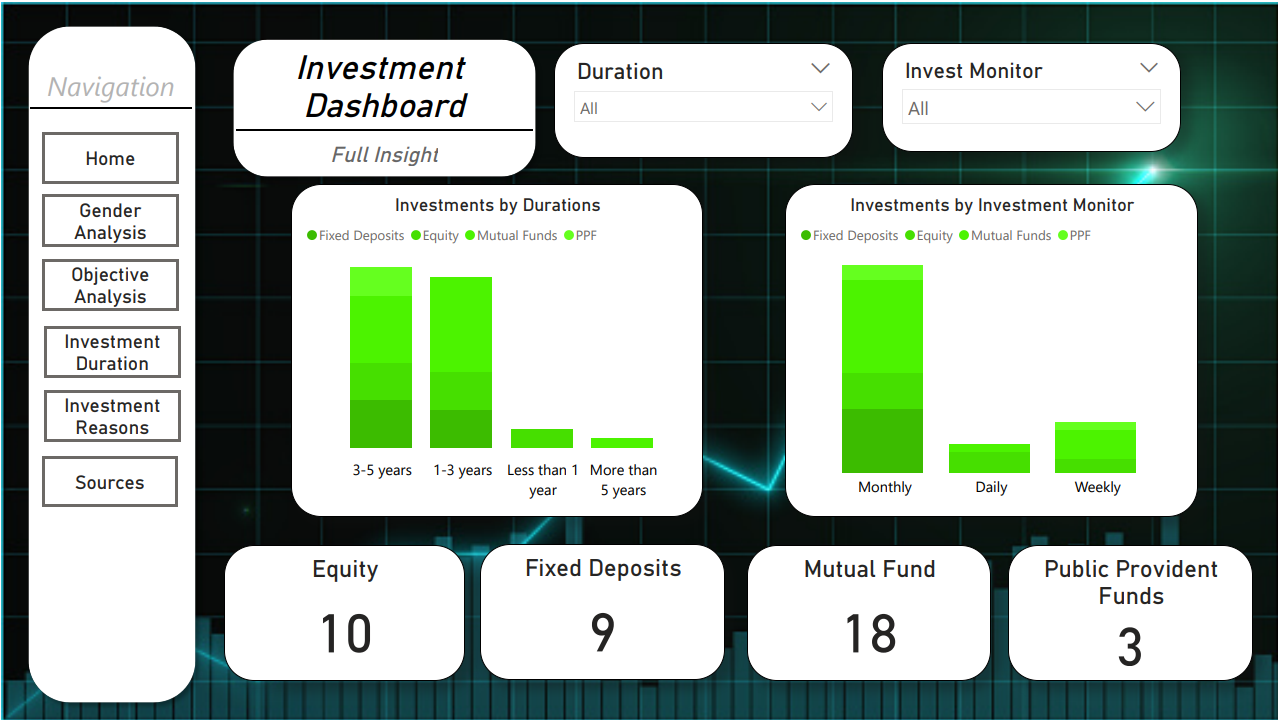

Layout of this report page (visuals, bound fields, positions):
{"tool":"powerbi","page":{"name":"Investment duration","canvas":[1280,720],"ordinal":3},"visuals":[{"type":"shape","box":[19.2,16.5,183.9,693],"z":0},{"type":"textbox","box":[28.8,60.4,161.9,46.7],"z":1000},{"type":"shape","box":[28.8,83.7,161.9,43.9],"z":2000},{"type":"shape","box":[223.7,28.8,319.7,153.7],"z":3000},{"type":"textbox","box":[246.6,41.3,272.2,85.5],"z":4000},{"type":"shape","box":[234.6,105.7,297.8,43.9],"z":5000},{"type":"columnChart","title":"Investments by Durations","fields":{"Category":["Data_set 2.Duration"],"Y":["Measure.count FD","Measure.Count Equity","Measure.Mutual Funds","Measure.PPF"]},"box":[289.5,182.2,412.6,333],"z":6000},{"type":"actionButton","title":"Home","box":[41.3,129.7,136.8,52.7],"z":7000},{"type":"actionButton","title":"Home","box":[41.3,192.4,136.8,52.7],"z":8000},{"type":"actionButton","title":"Home","box":[41.3,256.6,136.8,52.7],"z":9000},{"type":"actionButton","title":"Home","box":[42.8,323.6,136.8,52.7],"z":10000},{"type":"actionButton","title":"Home","box":[42.8,387.7,136.8,52.7],"z":11000},{"type":"card","title":"Equity","fields":{"Values":["Measure.Count Equity"]},"box":[223.2,542.9,241.3,136.3],"z":12000},{"type":"card","title":"Fixed Deposits","fields":{"Values":["Measure.count FD"]},"box":[479,541.7,244.9,136.3],"z":13000},{"type":"card","title":"Mutual Fund","fields":{"Values":["Measure.Mutual Funds"]},"box":[745.6,542.9,244.9,136.3],"z":14000},{"type":"card","title":"Public Provident Funds","fields":{"Values":["Measure.PPF"]},"box":[1007.4,542.9,244.9,136.3],"z":15000},{"type":"slicer","fields":{"Values":["Data_set 2.Duration"]},"box":[552.5,41,299.2,114.6],"z":16000},{"type":"slicer","fields":{"Values":["Data_set 2.Invest_Monitor"]},"box":[880.7,41,299.2,108.6],"z":17000},{"type":"columnChart","title":"Investments by Investment Monitor","fields":{"Y":["Measure.count FD","Measure.Count Equity","Measure.Mutual Funds","Measure.PPF"],"Category":["Data_set 2.Invest_Monitor"]},"box":[784.2,182.2,412.6,333],"z":18000},{"type":"actionButton","title":"Home","box":[41,453.6,136.3,51.9],"z":19000}]}

Visuals, with their boxes in screenshot pixels (x1, y1, x2, y2), scaled from the page's 1280x720 canvas onto the 1278x720 screenshot:
shape: select_region(19, 16, 203, 710)
textbox: select_region(29, 60, 190, 107)
shape: select_region(29, 84, 190, 128)
shape: select_region(223, 29, 543, 182)
textbox: select_region(246, 41, 518, 127)
shape: select_region(234, 106, 532, 150)
"Investments by Durations" columnChart: select_region(289, 182, 701, 515)
"Home" actionButton: select_region(41, 130, 178, 182)
"Home" actionButton: select_region(41, 192, 178, 245)
"Home" actionButton: select_region(41, 257, 178, 309)
"Home" actionButton: select_region(43, 324, 179, 376)
"Home" actionButton: select_region(43, 388, 179, 440)
"Equity" card: select_region(223, 543, 464, 679)
"Fixed Deposits" card: select_region(478, 542, 723, 678)
"Mutual Fund" card: select_region(744, 543, 989, 679)
"Public Provident Funds" card: select_region(1006, 543, 1250, 679)
slicer - Data_set 2.Duration: select_region(552, 41, 850, 156)
slicer - Data_set 2.Invest_Monitor: select_region(879, 41, 1178, 150)
"Investments by Investment Monitor" columnChart: select_region(783, 182, 1195, 515)
"Home" actionButton: select_region(41, 454, 177, 506)
